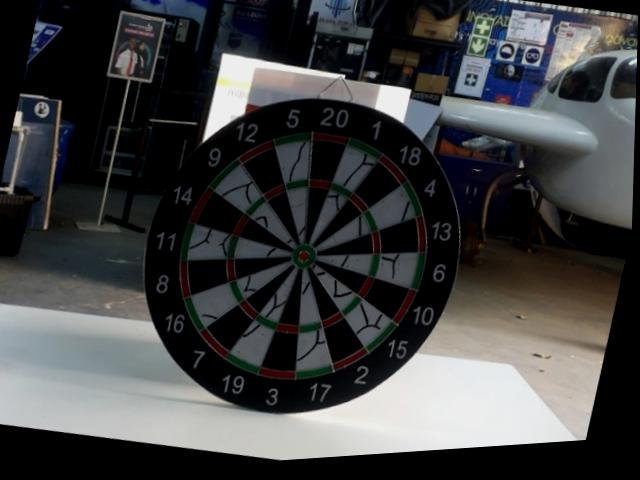single_20: (306, 139, 344, 181), (299, 189, 322, 241)
